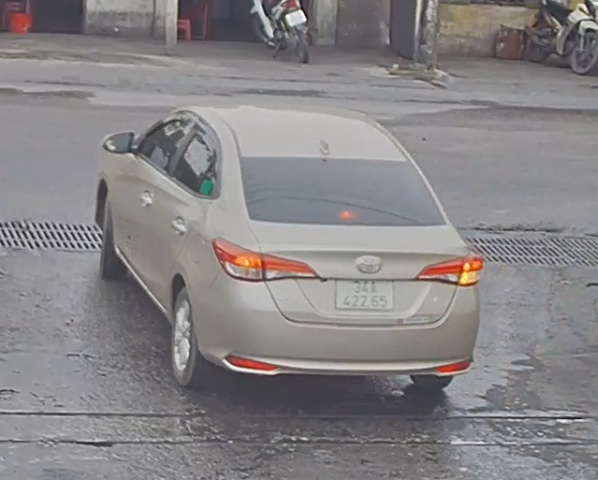vehicle plate: (336, 275, 394, 311)
